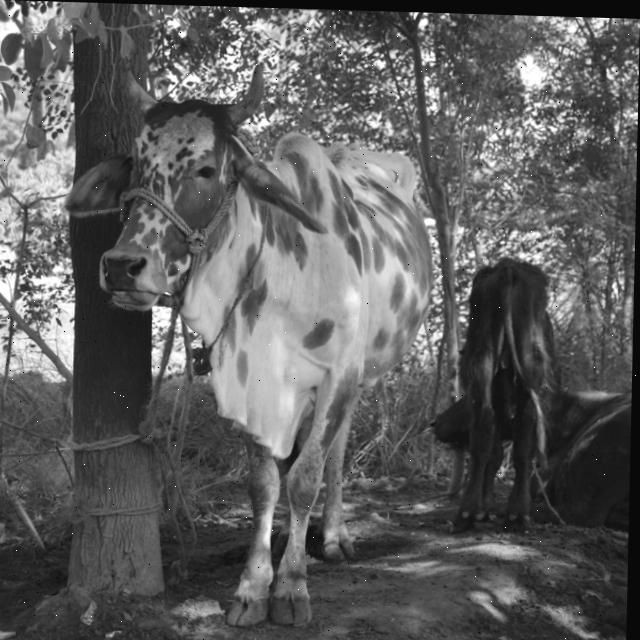Cow: (42, 30, 529, 640)
